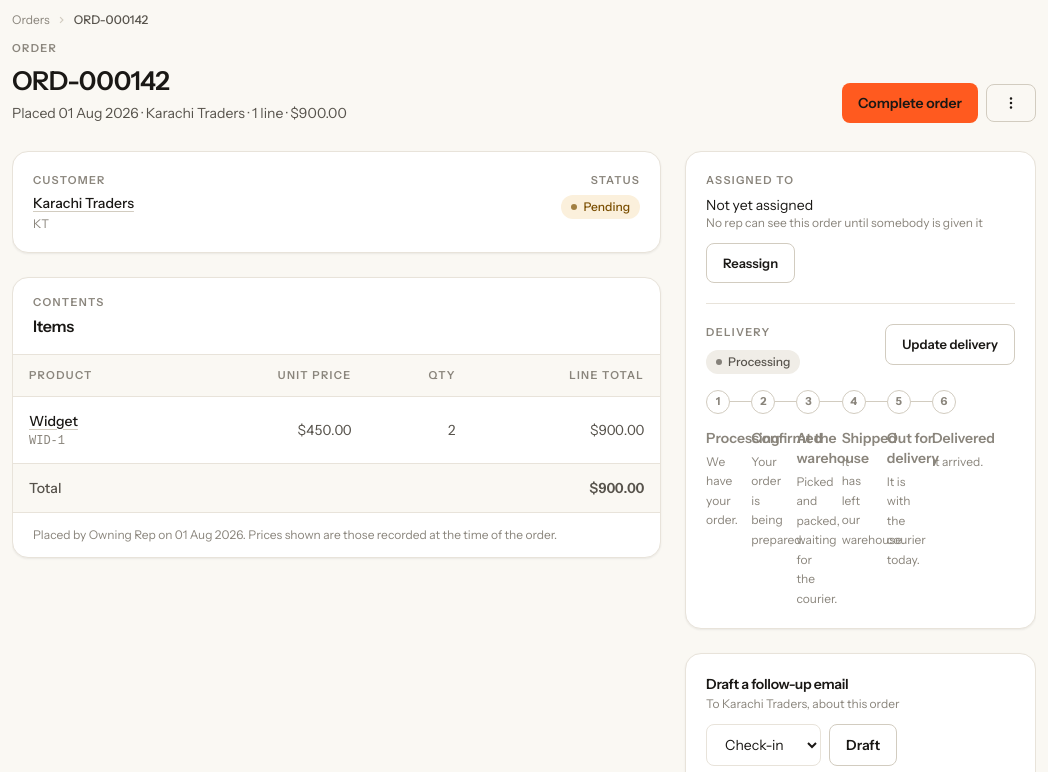
Test: the assignment panel › offers no clear button when the order is already unassigned
Click the button "Reassign". click: (751, 263)
box: [706,242,795,283]
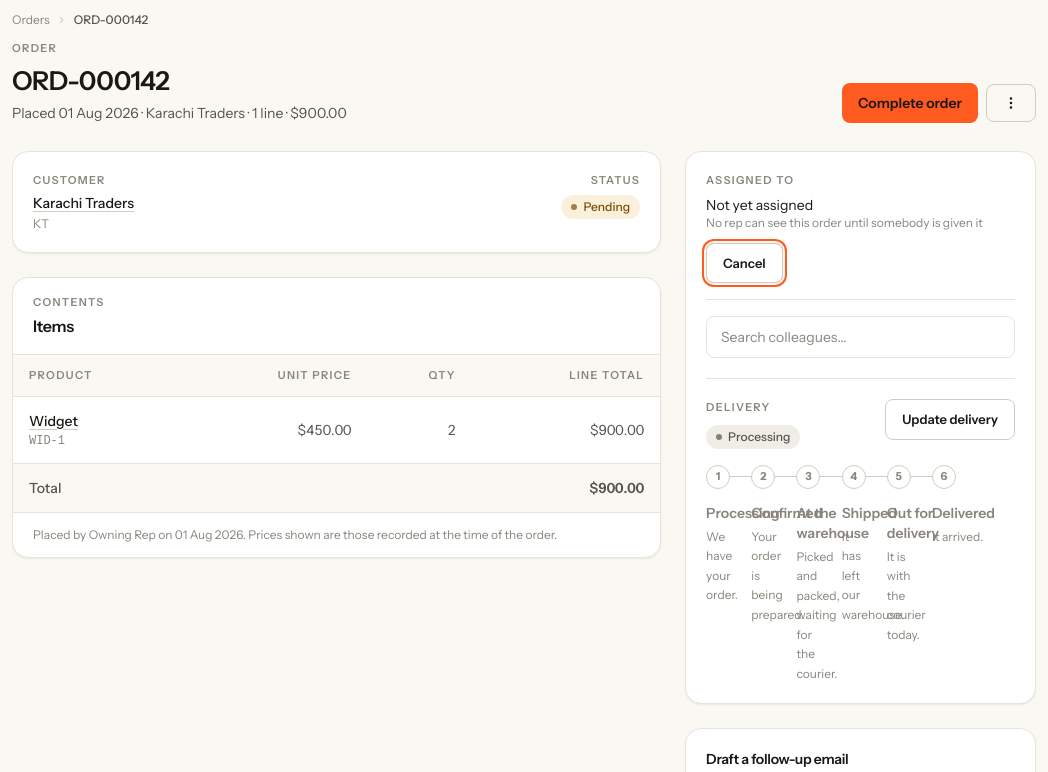
Result: the dropdown with placeholder "Search colleagues…" is shown at [706,316,1015,358]
